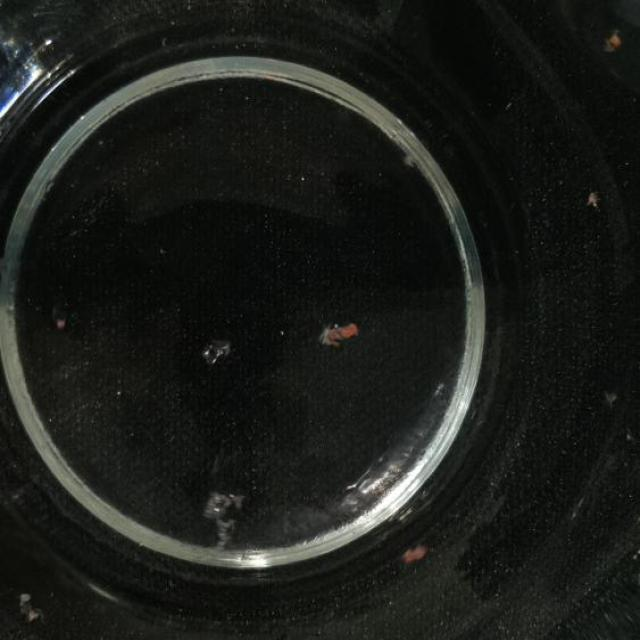fiber: (194, 473, 254, 542), (188, 325, 246, 384), (314, 296, 365, 362), (393, 539, 438, 571)
